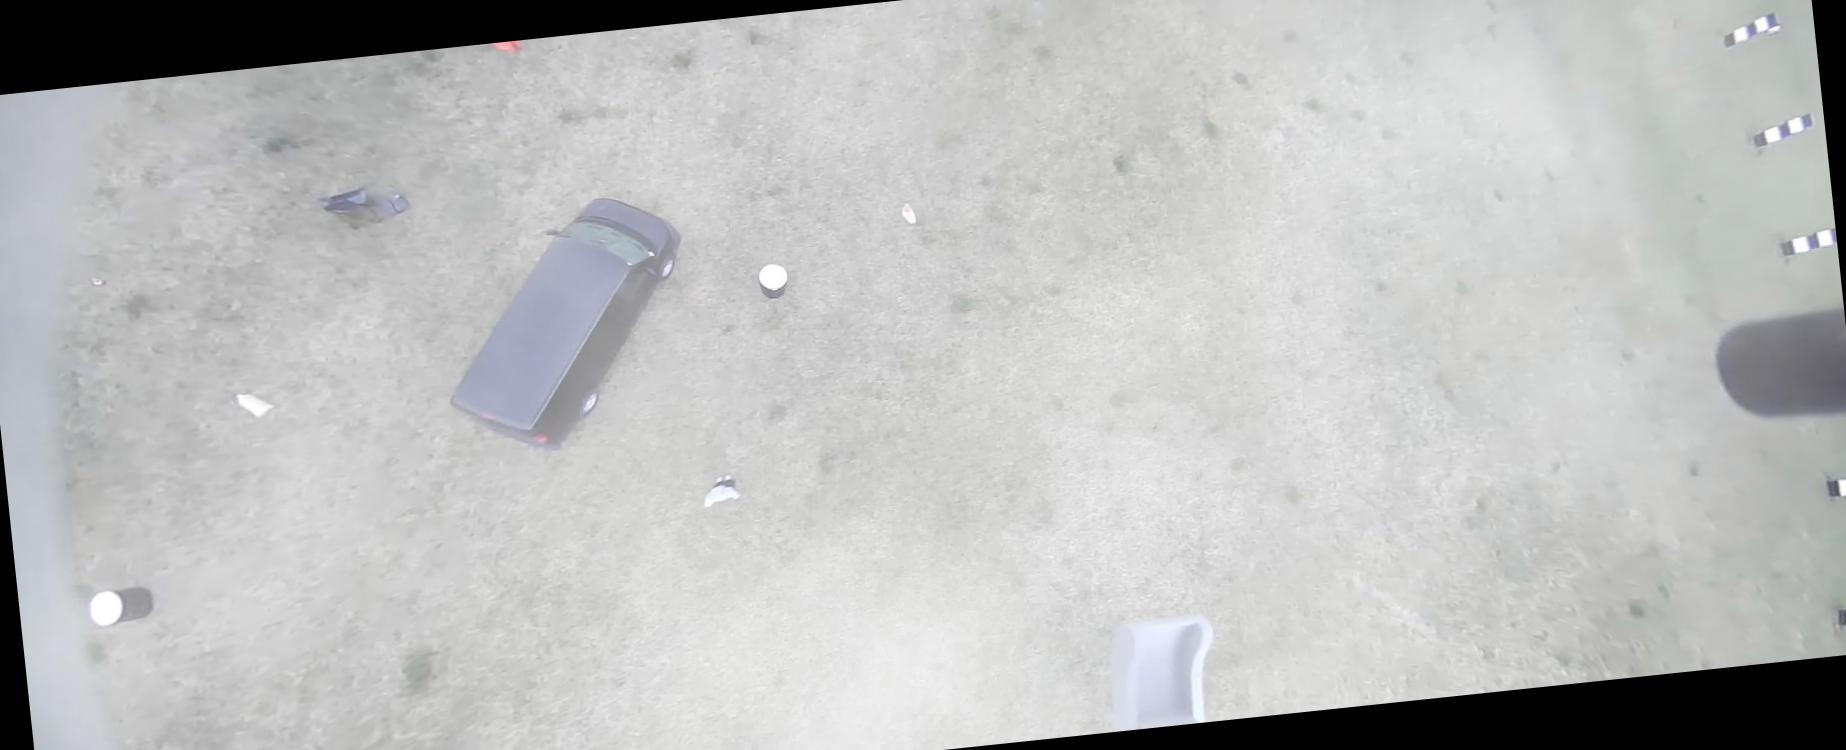vehicle: (432, 190, 702, 460)
